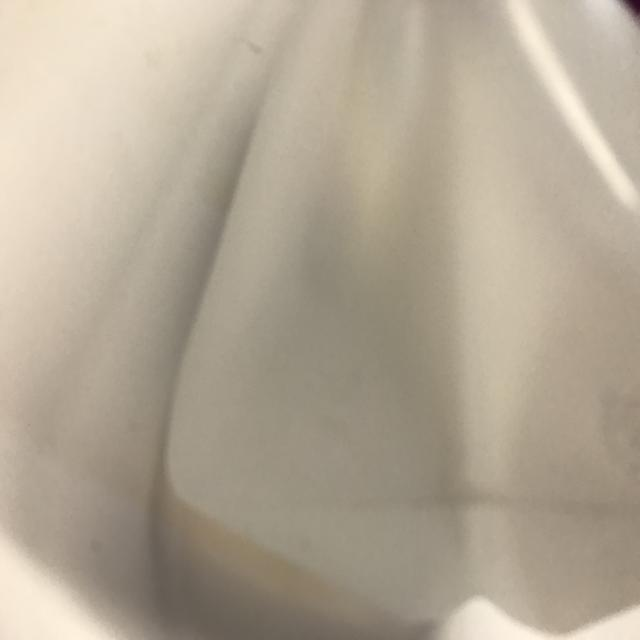plastic: (1, 0, 638, 639)
